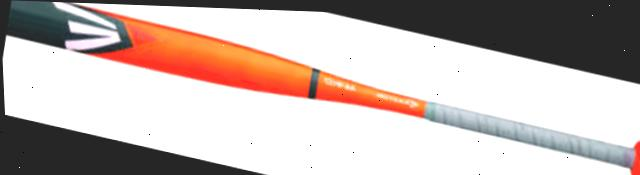baseball bat: (4, 0, 640, 175)
